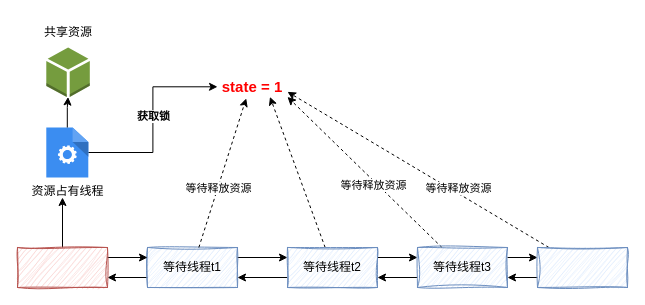
The diagram is 645 pixels wide and 305 high, and some of its shapes have lost their labels. Each missing label, with the centre of its shape:
"头节点" belongs at [62,267].
"等待线程t4" belongs at [582,267].
